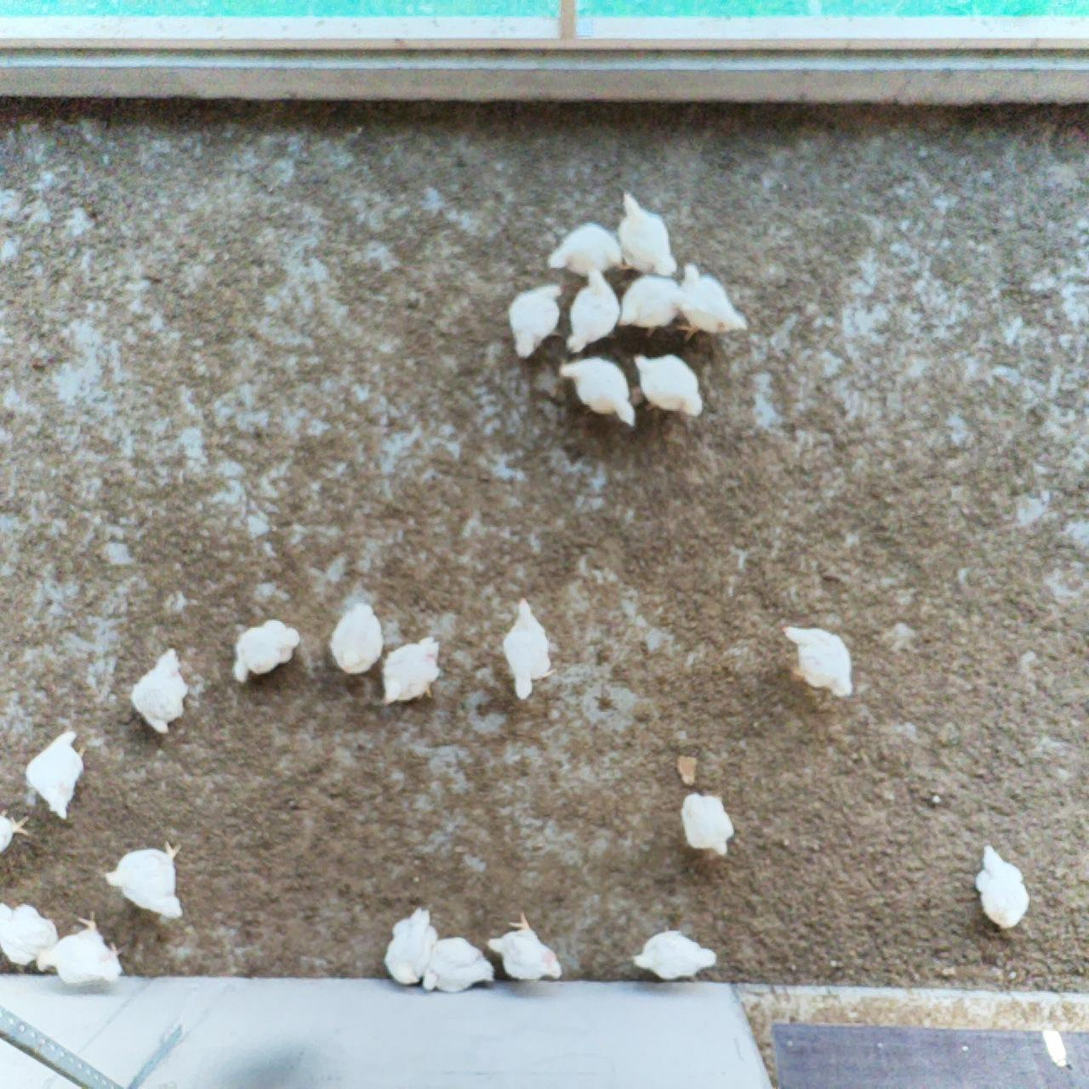chicken: (100, 835, 191, 925), (34, 909, 131, 987), (22, 725, 95, 827), (672, 257, 754, 344), (496, 592, 558, 704), (778, 621, 857, 704), (613, 187, 681, 283), (556, 354, 641, 429), (627, 919, 720, 986), (125, 645, 190, 740), (484, 909, 564, 986), (969, 841, 1033, 936), (563, 264, 626, 358), (630, 349, 707, 420), (229, 617, 304, 689), (504, 280, 569, 363), (377, 633, 447, 710), (418, 934, 498, 999), (327, 597, 389, 680), (545, 220, 629, 281), (381, 904, 441, 989), (0, 897, 63, 974), (616, 273, 684, 341), (676, 789, 737, 860), (0, 804, 34, 861)
